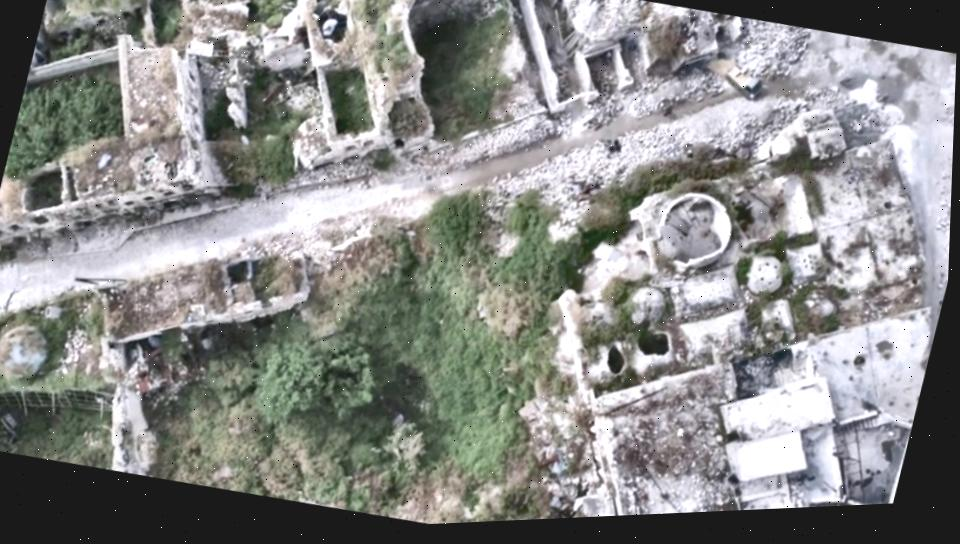kapali: (390, 40, 858, 222)
